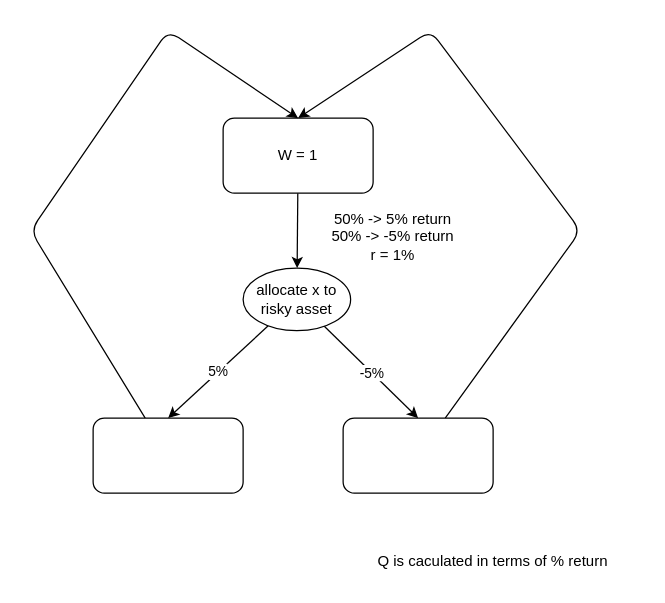
Image size: 665x603. Some labels were removed from this diagram. Here are the shapes that lost their labels. From the top down, the centre of each, then its label:
At point 167,455: "W = x * 1.05 + (1-x) * 1.01".
At point 417,455: "w = x * 0.095 + (1-x) * 1.01".
